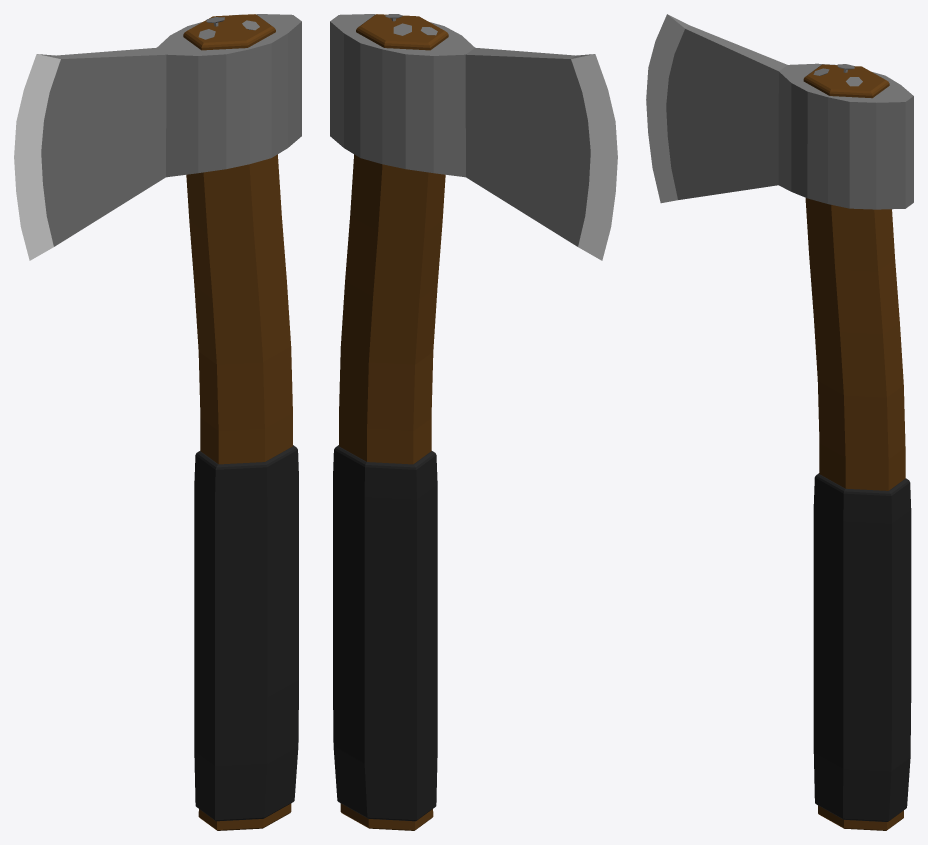
Rendered from FBX_Axe.fbx.
3 renders of one model, left to right at view 1: azimuth 30°, elevation 25°; view 2: azimuth 150°, elevation 25°; view 3: azimuth 330°, elevation 25°, orthographic. The views are drawn at different scales.
Parts seen in each view (by area): view 1: Cube; view 2: Cube; view 3: Cube.
Boxes of the visible parts, left/top/right/bottom form: Cube: left=14, top=14, right=301, bottom=830; Cube: left=330, top=14, right=617, bottom=830; Cube: left=646, top=14, right=913, bottom=830.
Bounding box in the file's own units: 0.0606 × 0.6579 × 0.2402.
